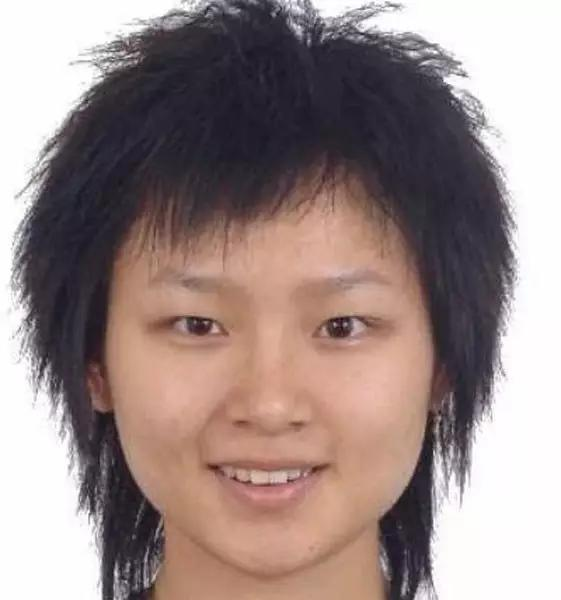unmask: (120, 223, 425, 553)
